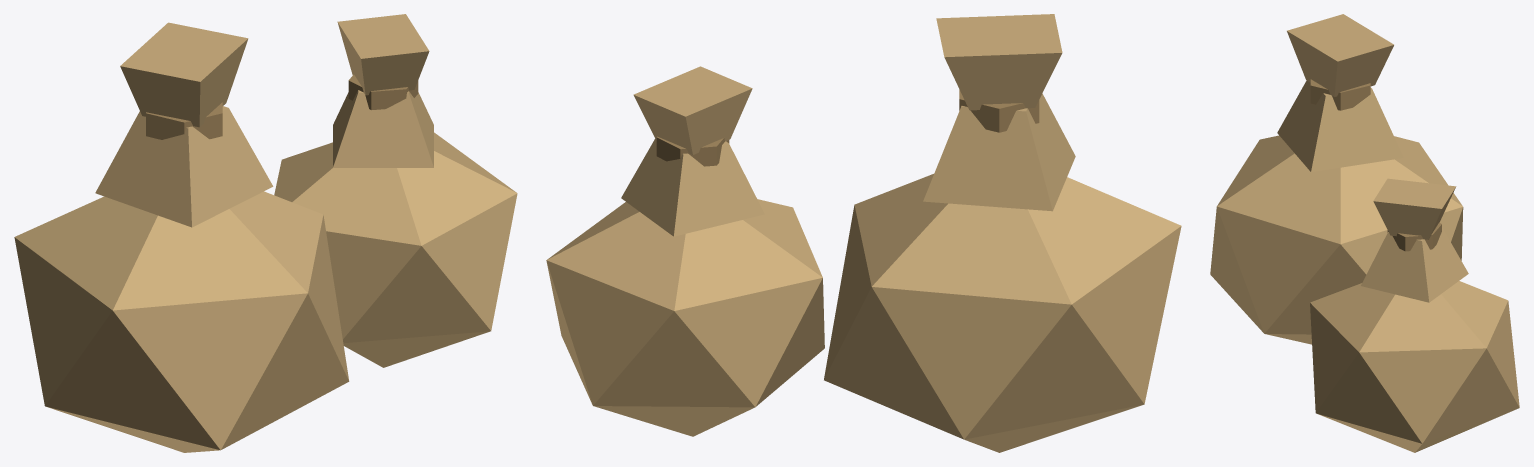
Rendered from Sacks.fbx.
3 renders of one model, left to right at view 1: azimuth 30°, elevation 25°; view 2: azimuth 150°, elevation 25°; view 3: azimuth 270°, elevation 25°, orthographic. The views are drawn at different scales.
Parts seen in each view (by area): view 1: Sacks; view 2: Sacks; view 3: Sacks.
Part boxes in pixels (left/top/right/bottom): Sacks: left=14, top=14, right=517, bottom=452; Sacks: left=546, top=14, right=1181, bottom=452; Sacks: left=1210, top=14, right=1519, bottom=452.
Bounding box in the file's own units: 0.9258 × 0.7159 × 0.6256.
